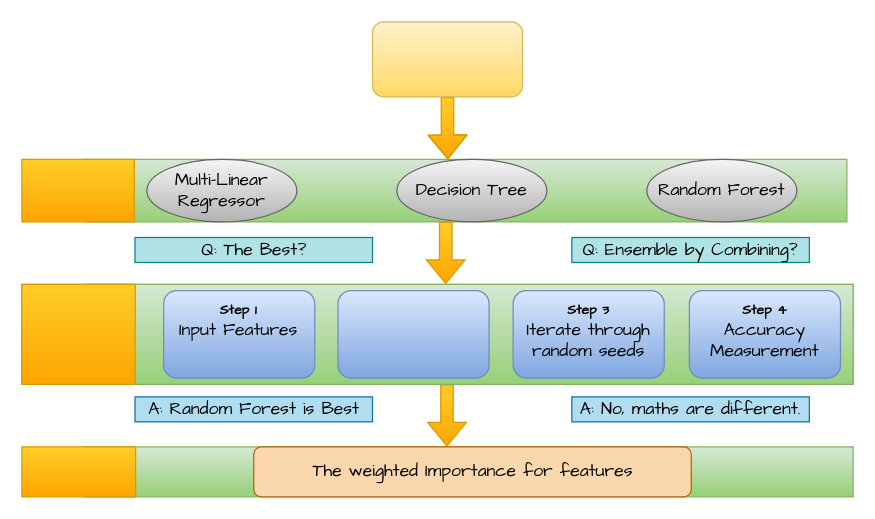
Image size: 875x519. Some labels were removed from this diagram. The shapes that lost their labels are listed below. From the top down, each one's centre as x and y in pixels, then its label:
(446,59): Features are selected
(77,190): Consider Choices
(78,333): Implement the tools
(413,333): Step 2 Parameter Optimization
(78,471): Output
